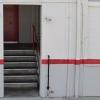stairs: (1, 50, 42, 98)
